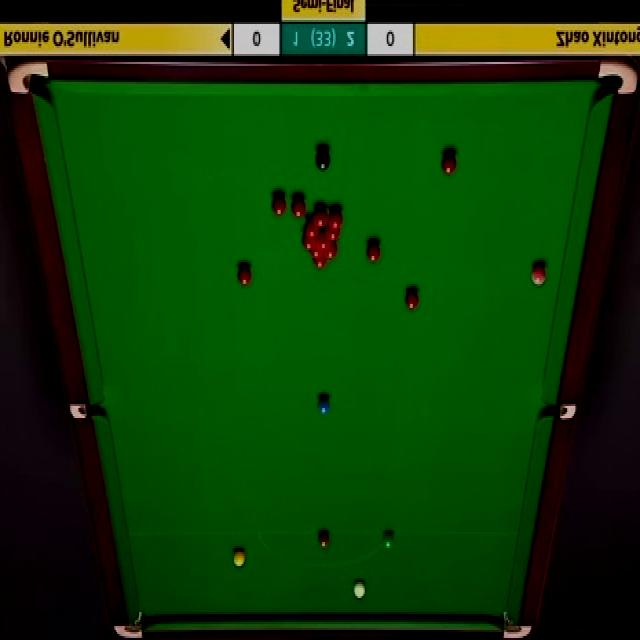black-ball: (315, 147, 331, 173)
blue-ball: (317, 398, 330, 416)
brown-ball: (317, 531, 330, 548)
green-ball: (382, 528, 396, 552)
pink-ball: (530, 263, 547, 287)
red-ball: (365, 238, 381, 264), (272, 193, 286, 220), (238, 262, 252, 287), (290, 193, 304, 218), (441, 152, 456, 175), (314, 207, 329, 228), (318, 229, 332, 251), (305, 217, 318, 240), (405, 288, 418, 311), (328, 208, 342, 228), (301, 233, 317, 250), (323, 241, 337, 260), (326, 224, 341, 240), (308, 248, 324, 260), (313, 259, 328, 271)
white-ball: (354, 581, 366, 599)
yellow-ball: (232, 548, 246, 568)
